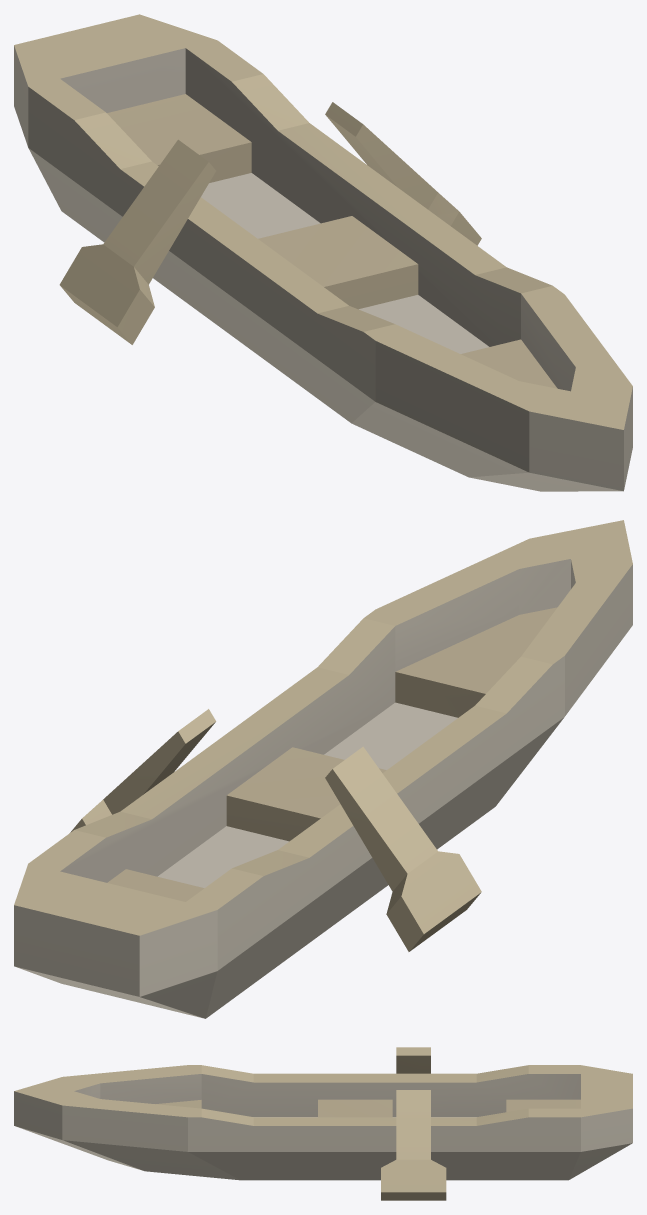
File: rowboat.glb
3 views of the same model, one above another, from view 1: azimuth 30°, elevation 25°; view 2: azimuth 150°, elevation 25°; view 3: azimuth 270°, elevation 25° (orthographic). The views are drawn at different scales.
Parts seen in each view (by area): view 1: rowboat; view 2: rowboat; view 3: rowboat.
Part boxes in pixels (x1,y1,x2,y2): rowboat: (14, 14, 632, 491); rowboat: (14, 520, 632, 1018); rowboat: (14, 1047, 632, 1200).
Size of the model in its own units: 2 by 0.85 by 5.2.
